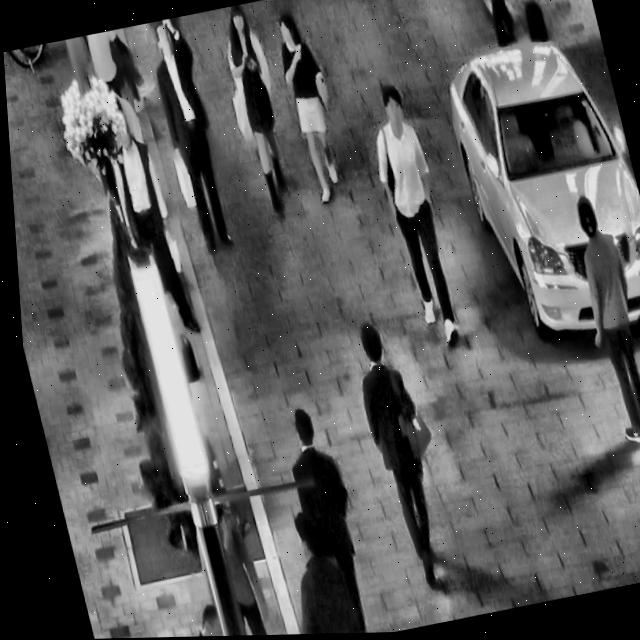light_vehicle: (424, 11, 640, 363)
